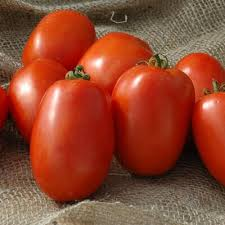tomato: (115, 59, 190, 178), (35, 70, 104, 198)
